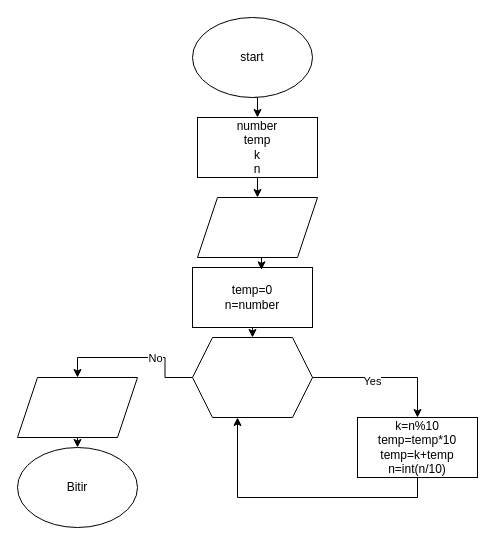
This 495x545 diagram has some shape labels left out. Here are the shapes that lost their labels. From the top down, the centre of each, then its label:
At pixel 257 227: "number".
At pixel 252 377: "n!=0".
At pixel 77 407: "temp".
